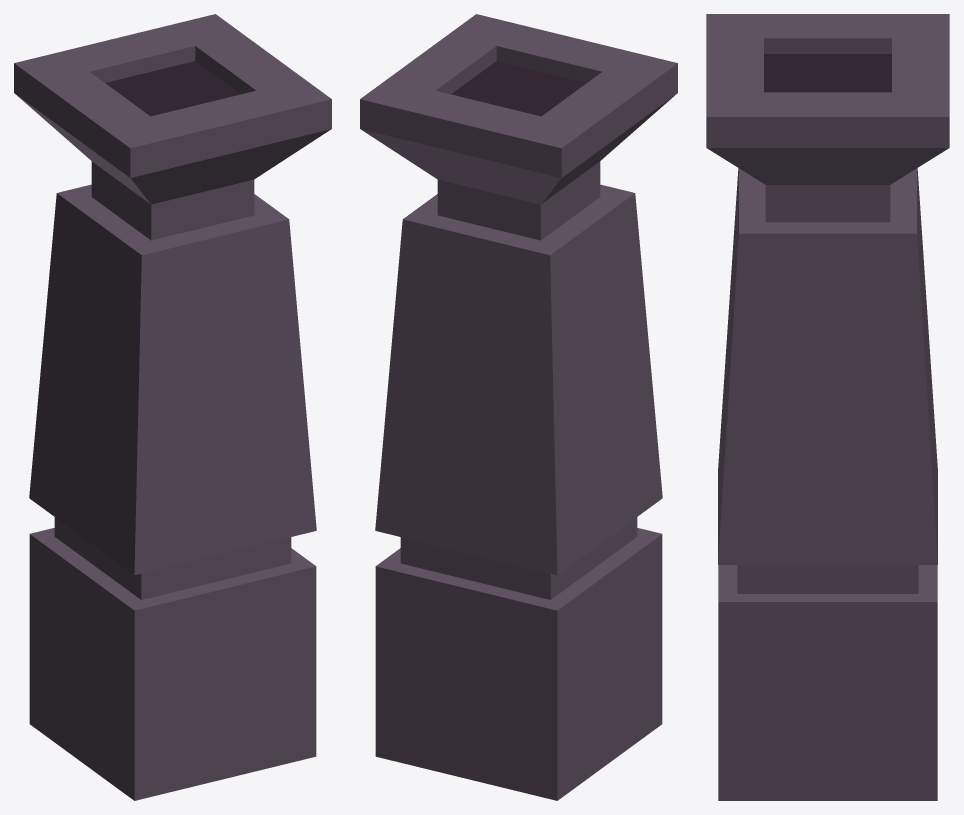
File: Spawner.obj
3 renders of one model, left to right at view 1: azimuth 30°, elevation 25°; view 2: azimuth 150°, elevation 25°; view 3: azimuth 270°, elevation 25°, orthographic. The views are drawn at different scales.
Visible parts, largest first — view 1: Spawner_Cube.026; view 2: Spawner_Cube.026; view 3: Spawner_Cube.026.
Boxes of the visible parts, <box> form: Spawner_Cube.026: <box>14,14,331,800</box>; Spawner_Cube.026: <box>360,14,677,800</box>; Spawner_Cube.026: <box>706,14,949,800</box>.
Size of the model in its own units: 3.04 by 9.49 by 3.04.
